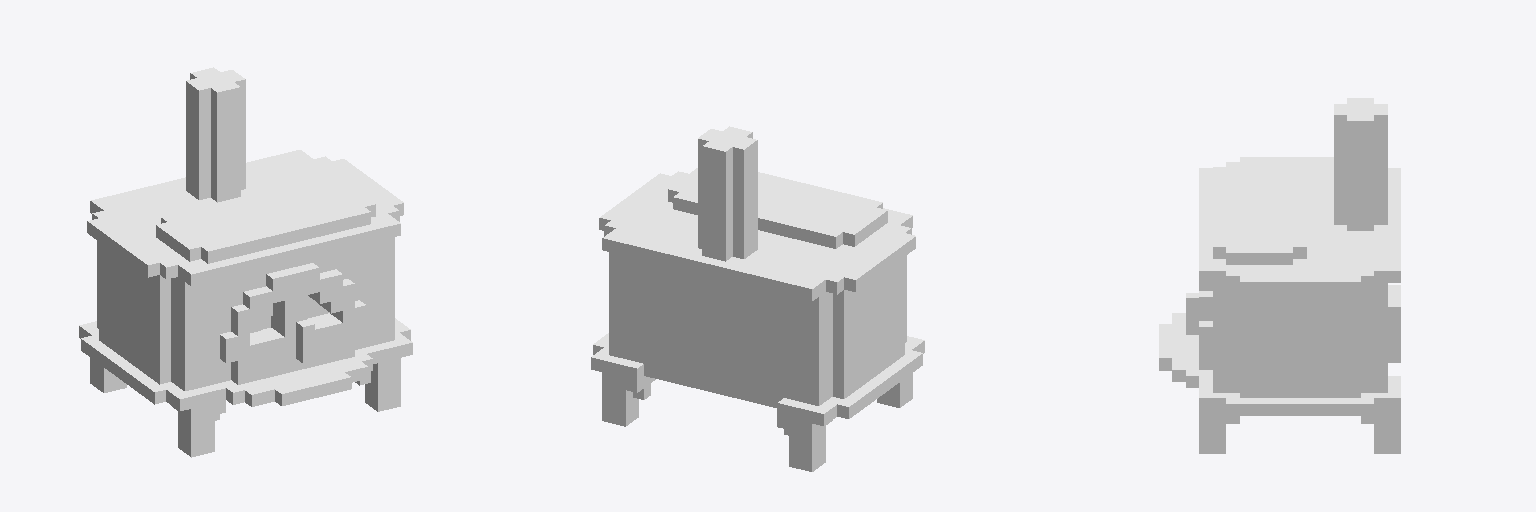
File: WoodStove.obj
3 renders of one model, left to right at view 1: azimuth 30°, elevation 25°; view 2: azimuth 150°, elevation 25°; view 3: azimuth 270°, elevation 25°, orthographic.
Visible parts, largest first — view 1: CupboardBigDoor; view 2: CupboardBigDoor; view 3: CupboardBigDoor.
Part boxes in pixels (x1,y1,x2,y2): CupboardBigDoor: (79, 67, 412, 457); CupboardBigDoor: (591, 126, 924, 471); CupboardBigDoor: (1159, 98, 1400, 453).
Bounding box in the file's own units: 2.2 × 2.4 × 1.8.